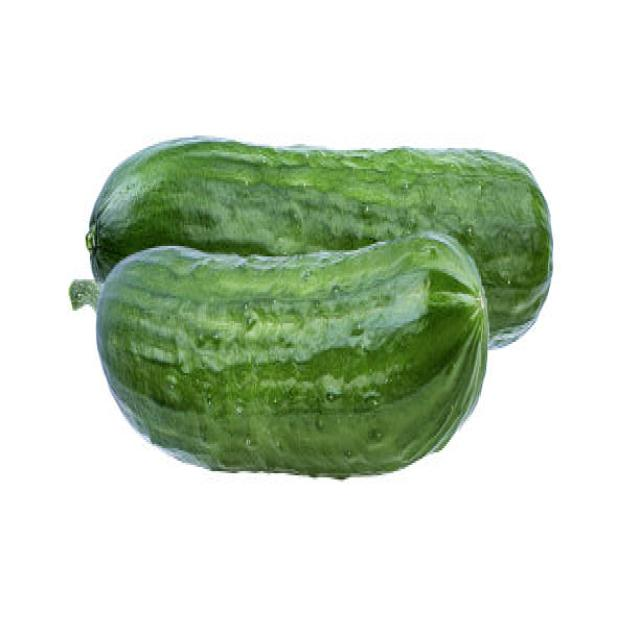cucumber: (95, 232, 488, 479), (89, 138, 553, 346)
